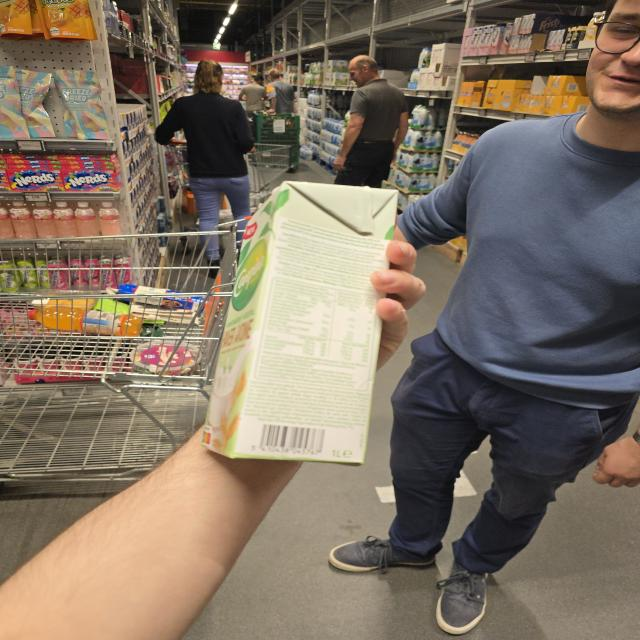Milk: (199, 180, 399, 462)
